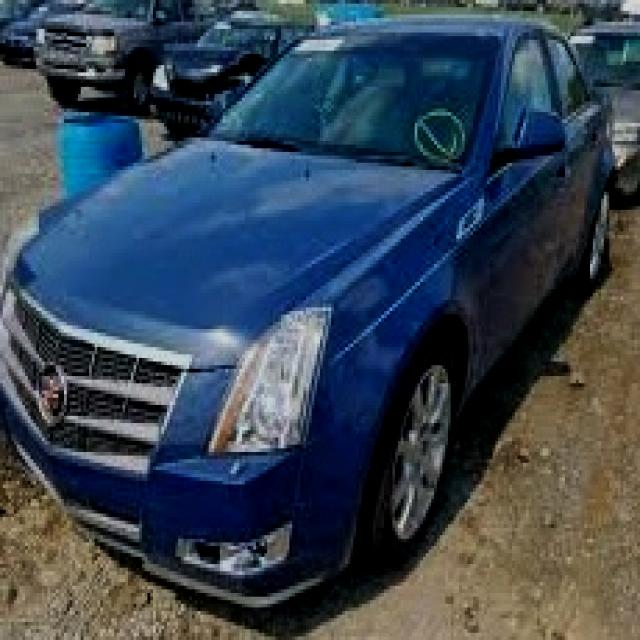blue: (1, 11, 607, 640)
